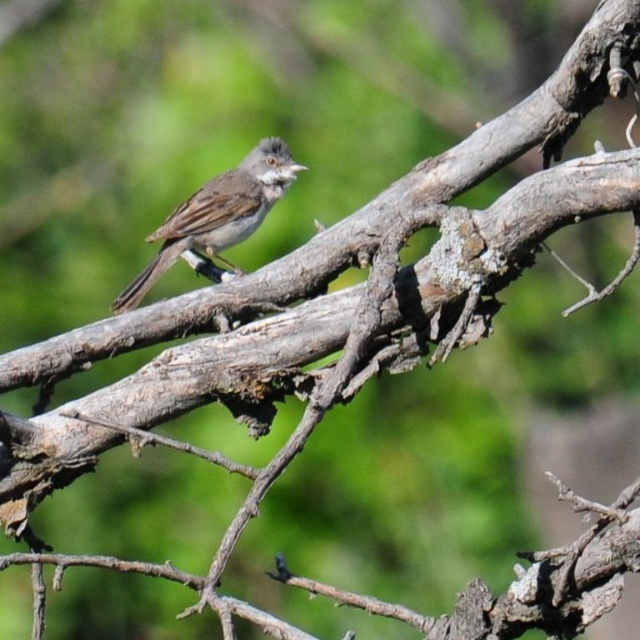Sparrow: (113, 135, 308, 302)
